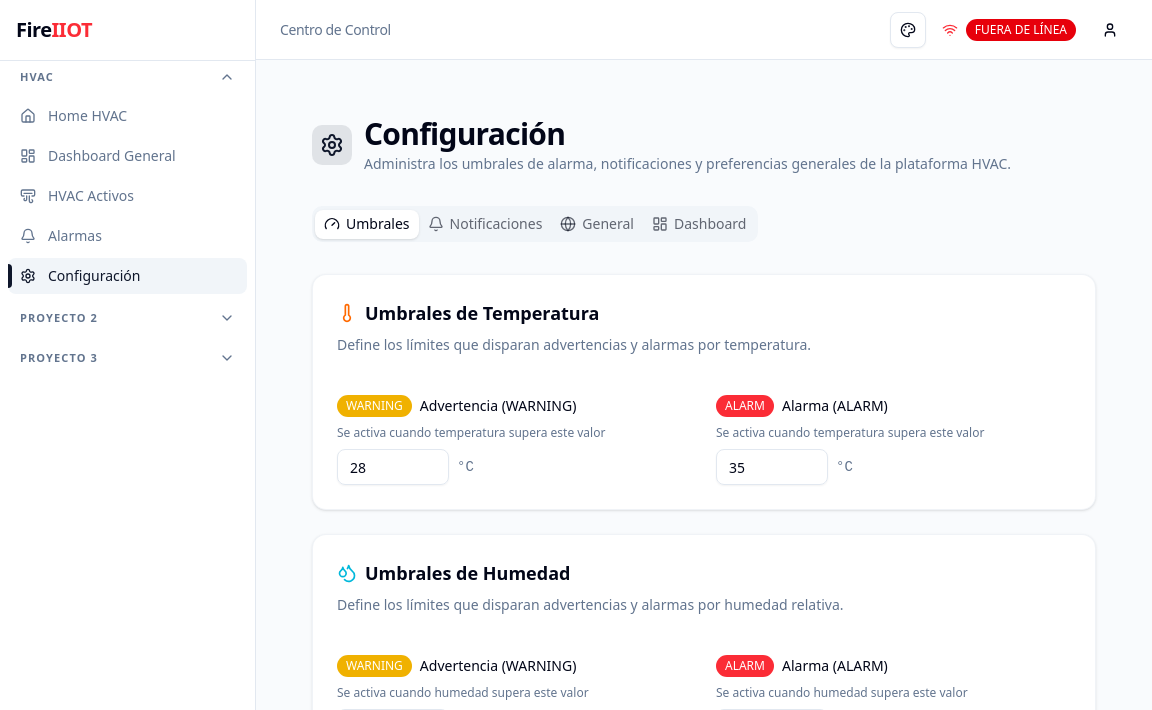
Settings - Threshold Changes › changes temperature alarm threshold and persists across page reload
Replace the text in the 2nd number field with "42" at x=772, y=467, box [716,449,828,485]
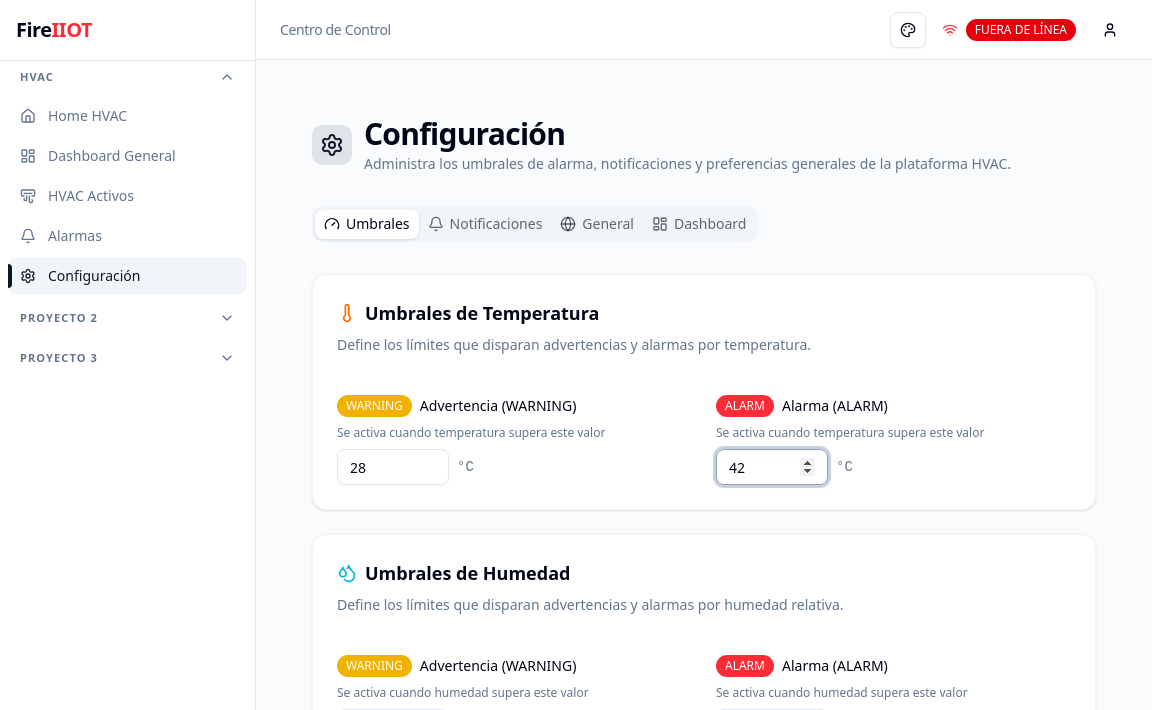
Scroll
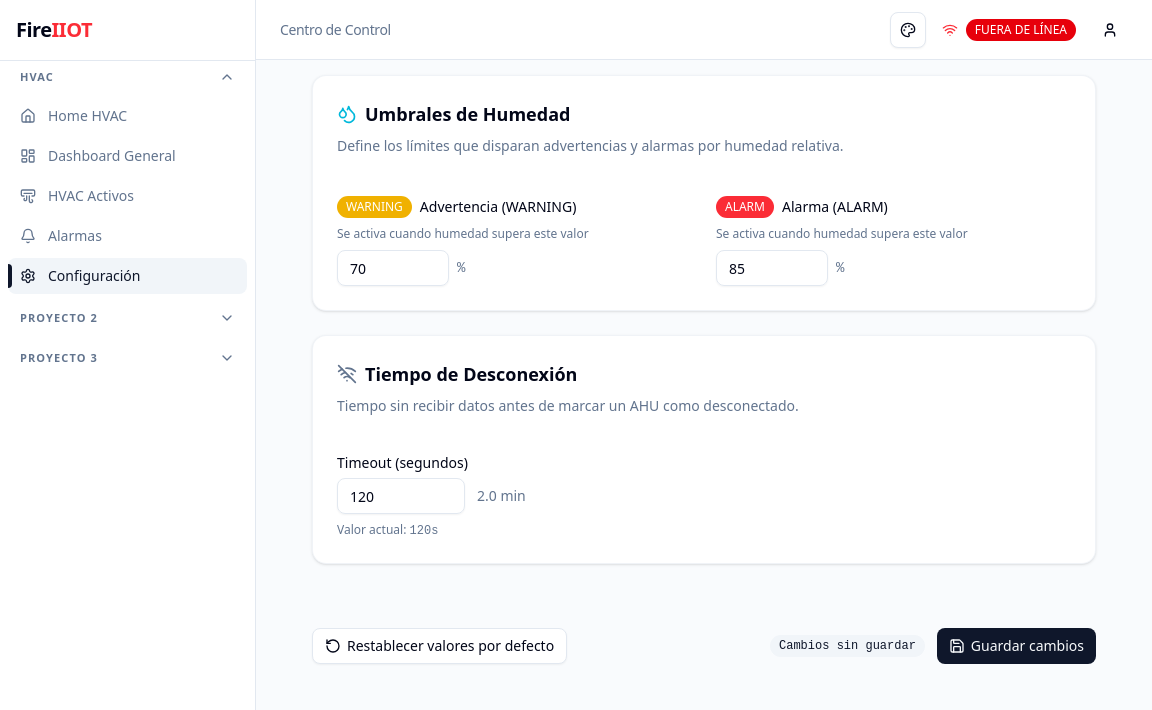
Click the button "Guardar cambios" at x=1017, y=646, box [937,628,1096,664]
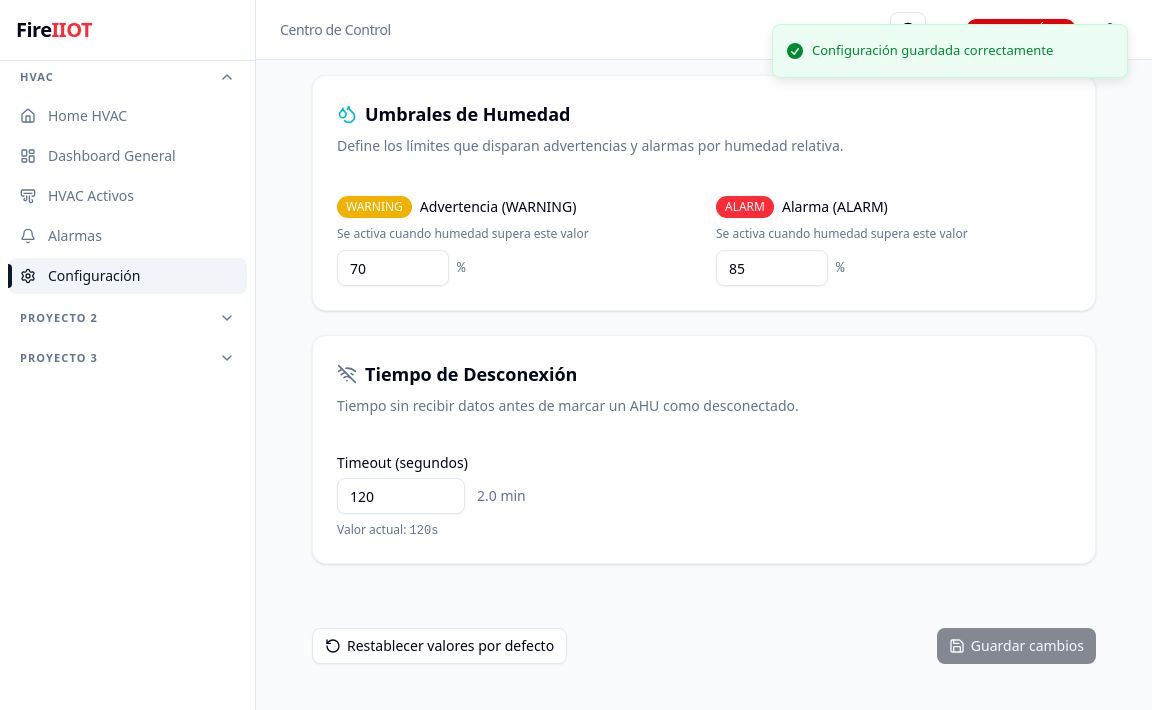
Reload the page
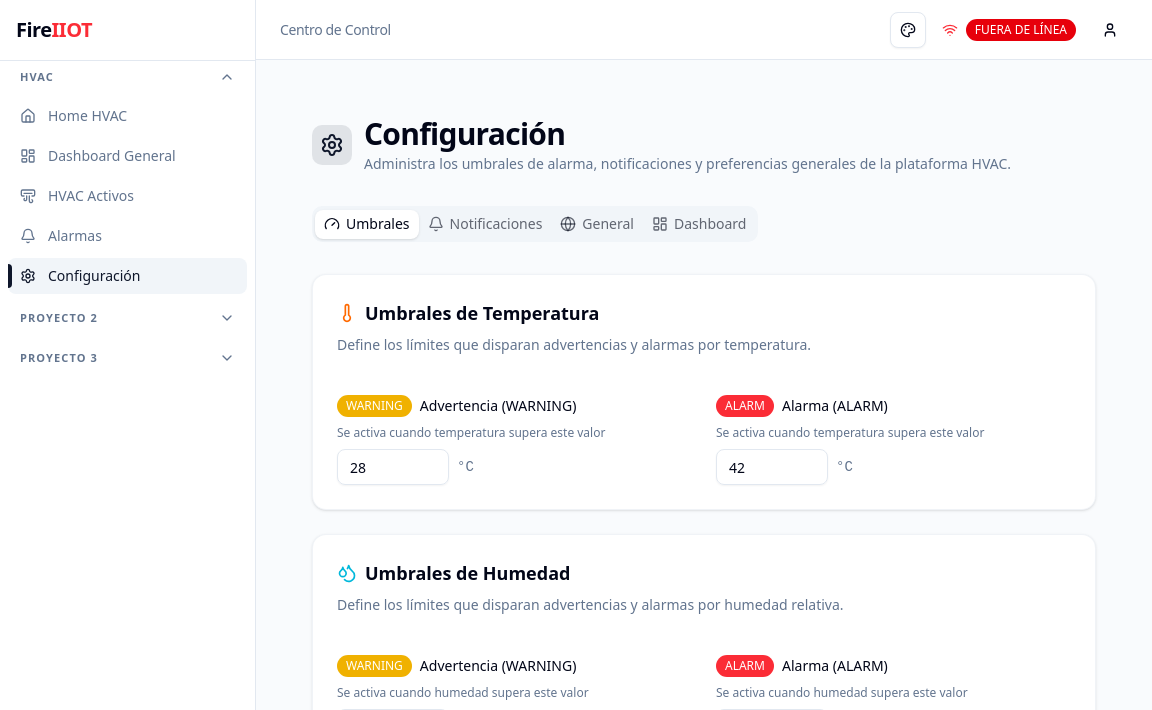
Now the 2nd number field holds "42", box [716,449,828,485]
